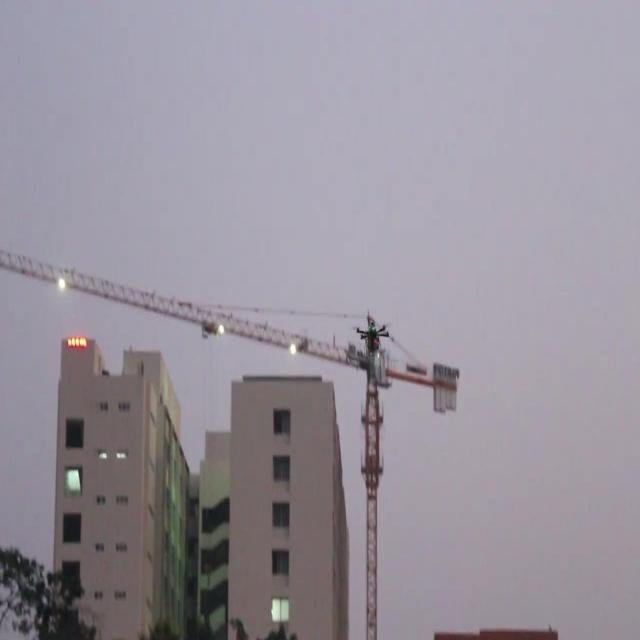UAV: (354, 316, 394, 356)
